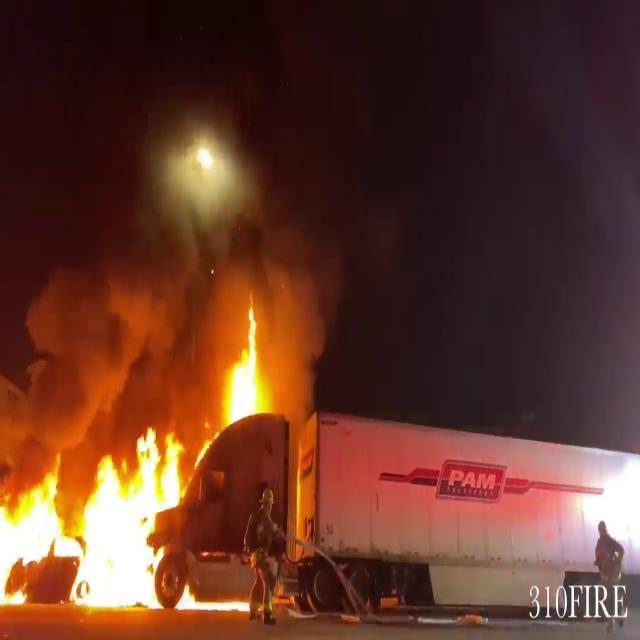Fire: (0, 420, 199, 616), (220, 304, 272, 436)
Smoke: (11, 138, 339, 446)
